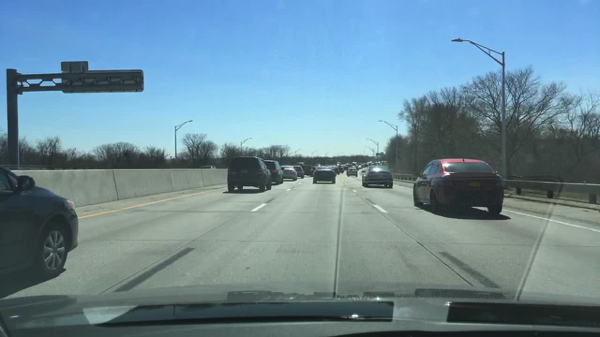car: (0, 166, 79, 286), (411, 158, 506, 216), (227, 156, 271, 193), (361, 166, 394, 190), (264, 160, 284, 185), (312, 167, 337, 184), (280, 165, 298, 181), (293, 165, 305, 179), (303, 164, 313, 176), (346, 168, 358, 176), (201, 164, 216, 170), (332, 164, 339, 176), (340, 163, 350, 169), (338, 165, 344, 174), (311, 165, 317, 173), (346, 163, 354, 167), (296, 162, 305, 165), (316, 163, 321, 167), (356, 163, 359, 169)
traffic sign: (62, 70, 144, 93), (61, 61, 90, 70), (375, 153, 385, 156)
